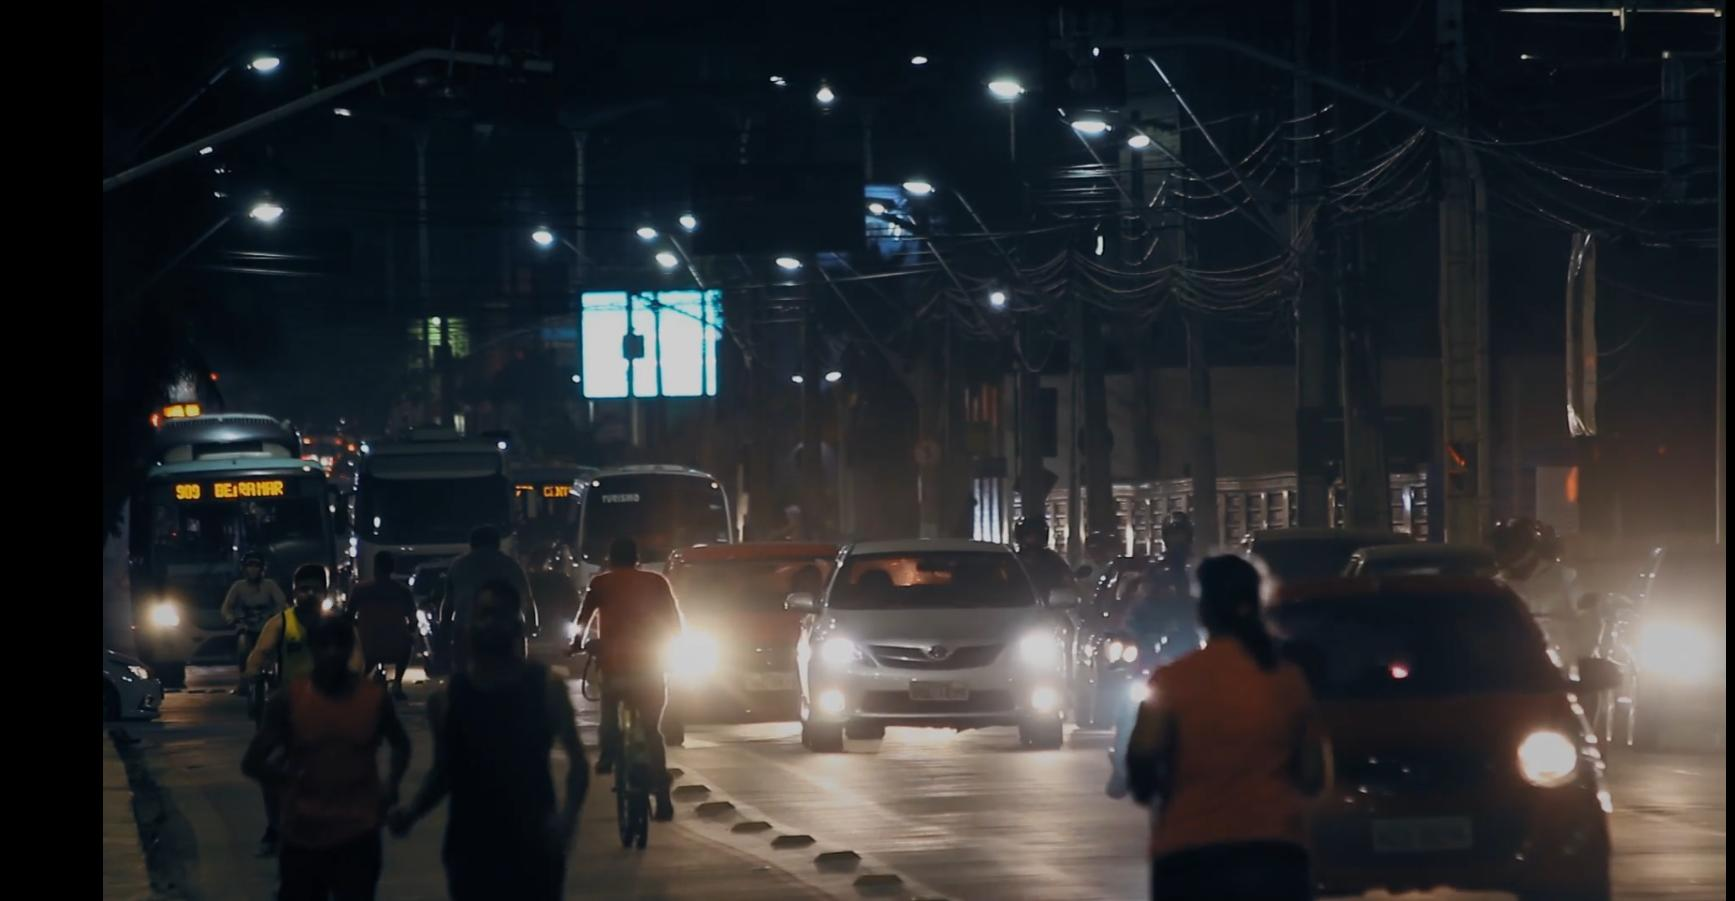bus: (152, 462, 332, 572), (500, 432, 594, 531)
car: (822, 524, 1098, 767)
cyclist: (580, 538, 706, 868)
motorcycle: (1112, 474, 1177, 763), (228, 542, 281, 659)
